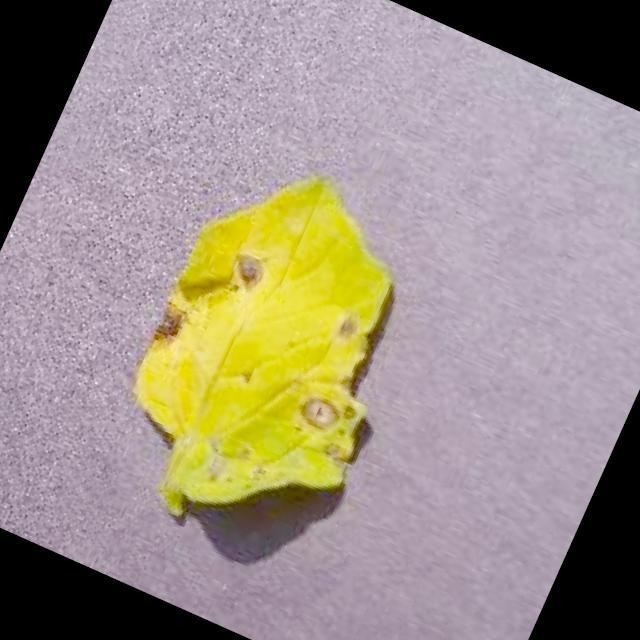Tomato Septoria spot leaf: (88, 130, 462, 560)
